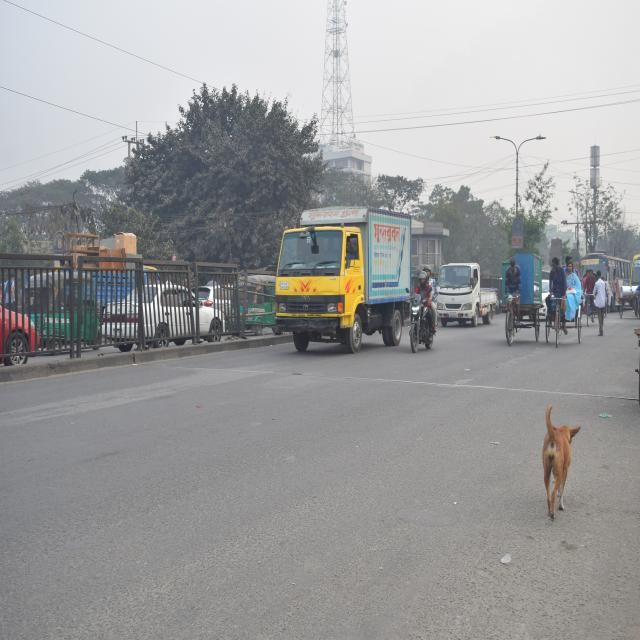bus: (580, 251, 632, 326)
motorbike: (407, 295, 443, 366)
pickup-van: (271, 196, 414, 360), (434, 246, 499, 340)
